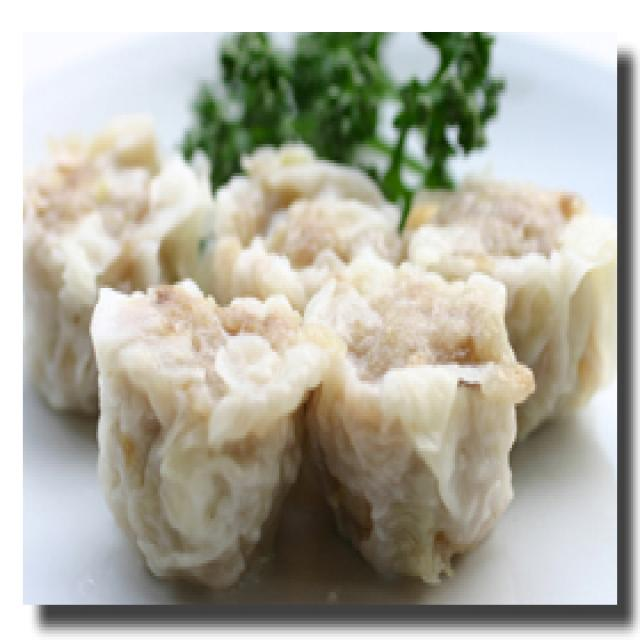带馅早点: (18, 121, 615, 602)
